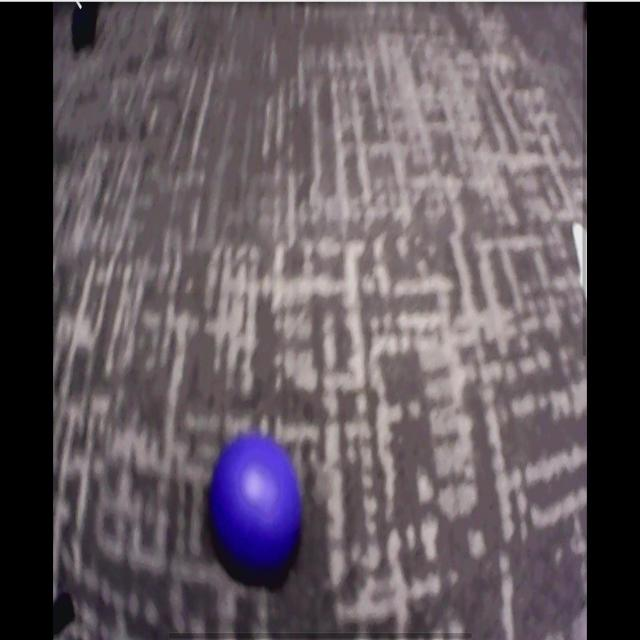ball: (212, 436, 301, 576)
